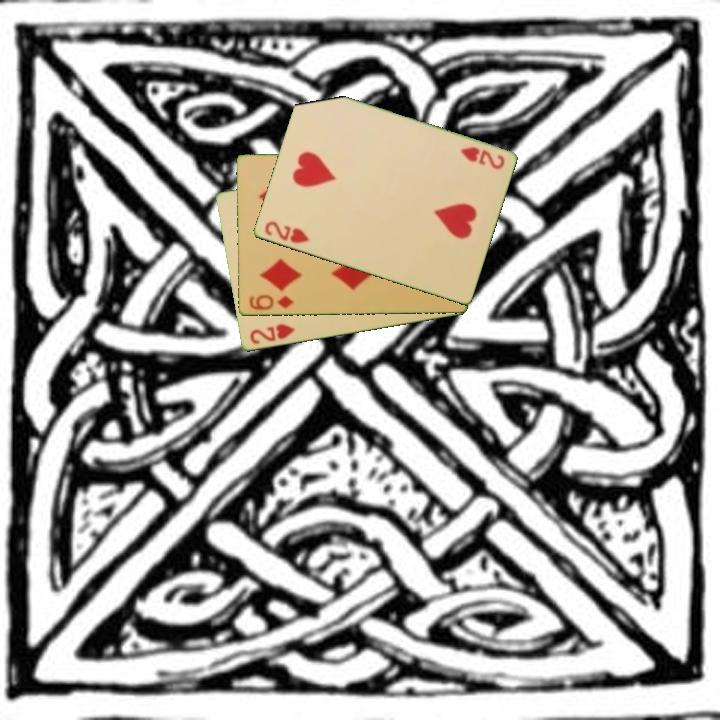2h: (457, 143, 507, 173), (261, 218, 312, 246), (246, 321, 298, 347)
6d: (245, 292, 296, 313)
